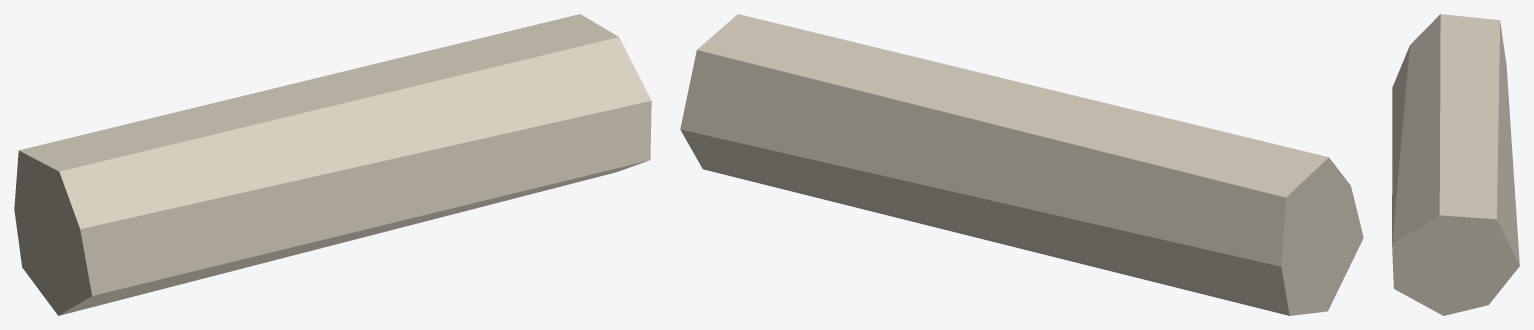
File: dehydrated_roll.glb
The picture shows the model from 3 angles, left to right: view 1: azimuth 30°, elevation 25°; view 2: azimuth 150°, elevation 25°; view 3: azimuth 270°, elevation 25°; orthographic projection. The views are drawn at different scales.
Visible parts, largest first — view 1: DehydratedRoll; view 2: DehydratedRoll; view 3: DehydratedRoll.
Part boxes in pixels (x1,y1,x2,y2): DehydratedRoll: (14, 14, 651, 315); DehydratedRoll: (680, 14, 1363, 315); DehydratedRoll: (1392, 14, 1519, 315).
Size of the model in its own units: 1.7 by 0.4213 by 0.4586.
